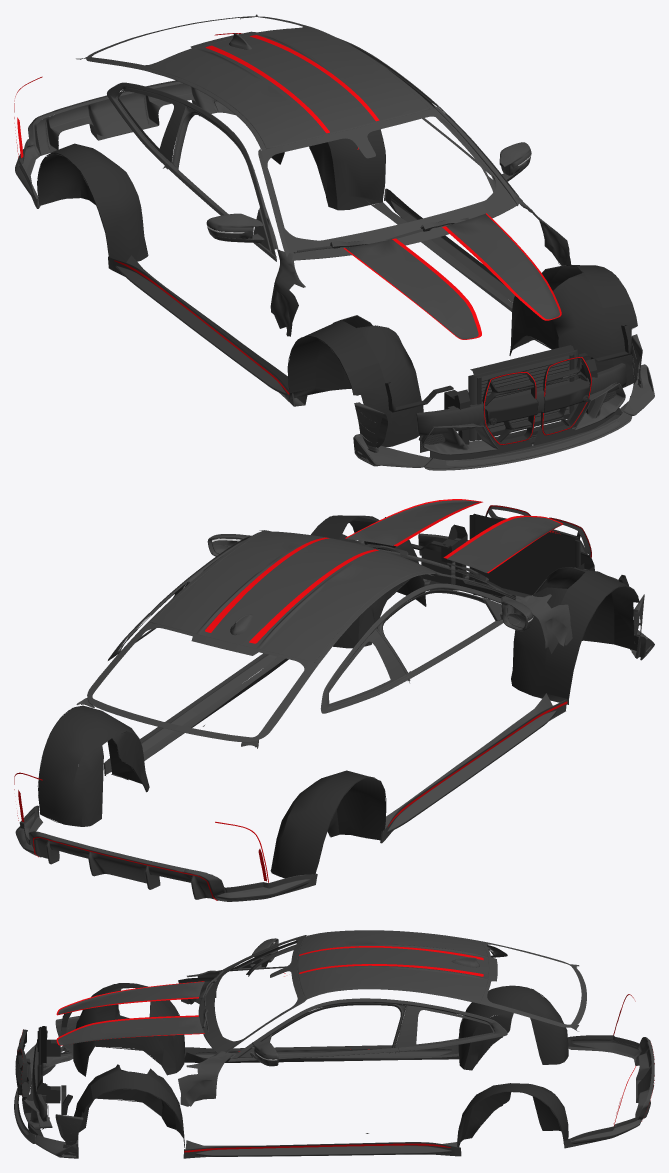
File: frame.glb
3 renders of one model, top to bottom at view 1: azimuth 30°, elevation 25°; view 2: azimuth 150°, elevation 25°; view 3: azimuth 270°, elevation 25°, orthographic. The views are drawn at different scales.
Visible parts, largest first — view 1: frame; view 2: frame; view 3: frame.
Boxes of the visible parts, x1,y1,x2,y2 form: frame: (14, 14, 654, 470); frame: (14, 499, 654, 901); frame: (14, 930, 654, 1158).
Size of the model in its own units: 1.97 by 1.2 by 4.54.
